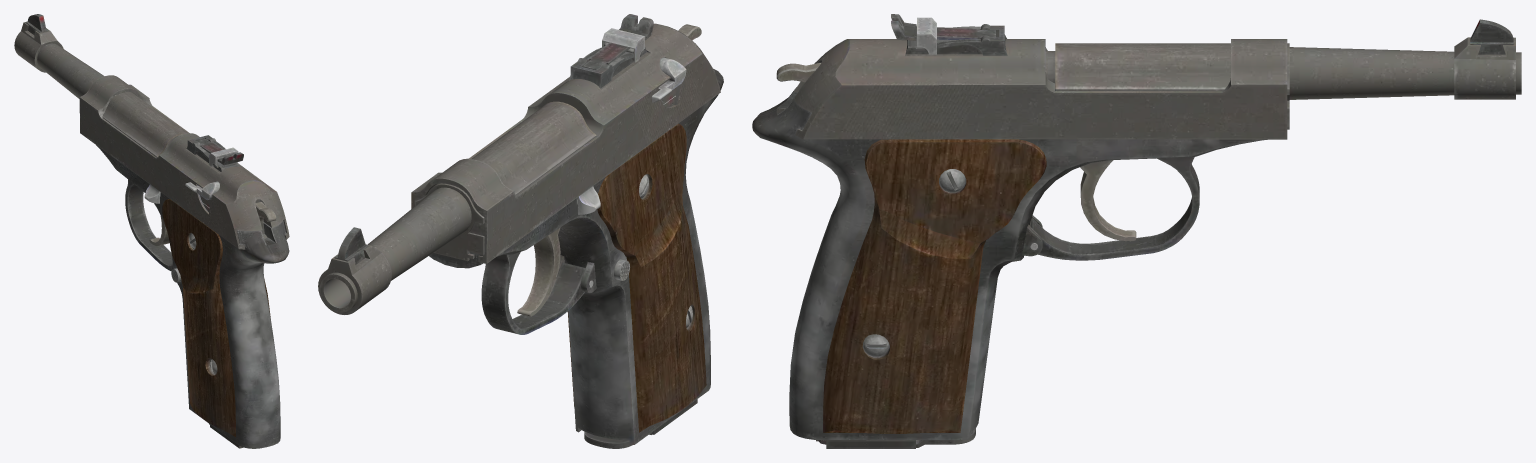
The model's file is servis.glb.
The picture shows the model from 3 angles, left to right: view 1: azimuth 30°, elevation 25°; view 2: azimuth 150°, elevation 25°; view 3: azimuth 270°, elevation 25°; orthographic projection. The views are drawn at different scales.
Parts seen in each view (by area): view 1: govde, surgu; view 2: govde, surgu, sarjor; view 3: govde, surgu, sarjor.
Part boxes in pixels (x1=…): govde: x1=14, y1=14, x2=289, y2=448; surgu: x1=79, y1=75, x2=289, y2=249; govde: x1=318, y1=24, x2=723, y2=444; surgu: x1=411, y1=14, x2=720, y2=263; sarjor: x1=584, y1=399, x2=697, y2=448; govde: x1=752, y1=19, x2=1521, y2=439; surgu: x1=794, y1=14, x2=1287, y2=139; sarjor: x1=816, y1=428, x2=975, y2=448.
Bounding box in the file's own units: 0.0318 × 0.1327 × 0.2219.
1 material, 1 textured.
